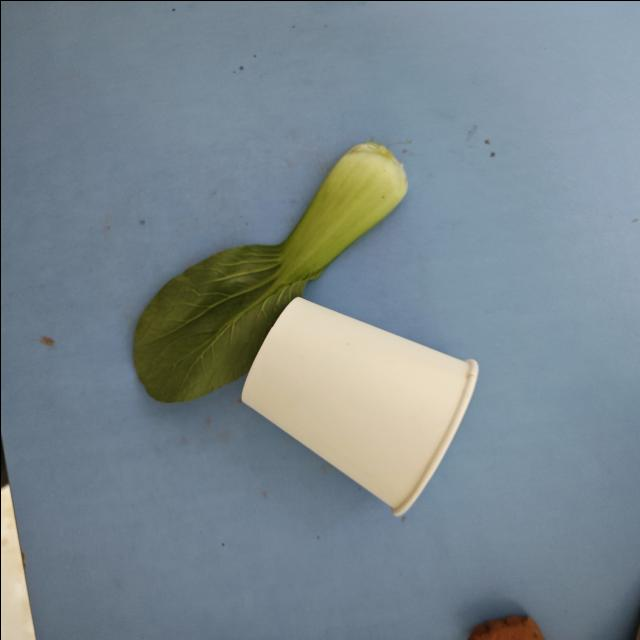-Kitchen waste - vegetable roots and leaves-: (132, 142, 406, 404)
-Recyclables - paper cup-: (238, 294, 478, 518)
